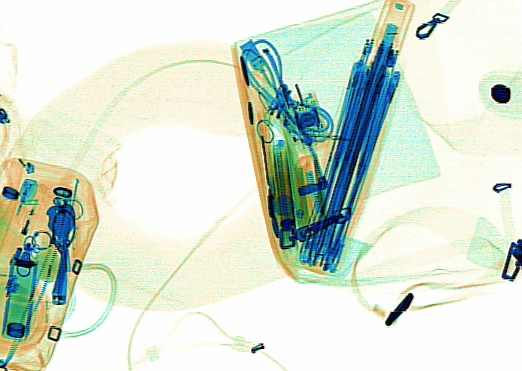lighter: (1, 177, 48, 263)
